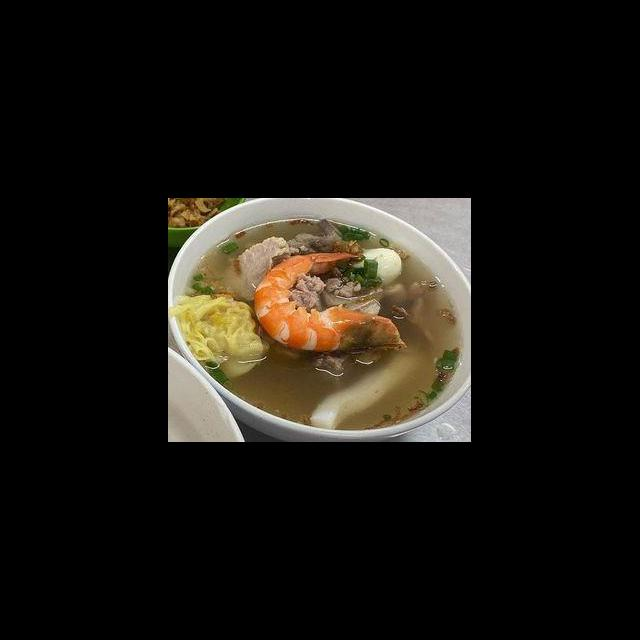thit bam: (286, 268, 364, 315)
thit heo: (215, 233, 296, 304)
tom: (247, 246, 413, 356)
trung: (346, 244, 406, 287)
